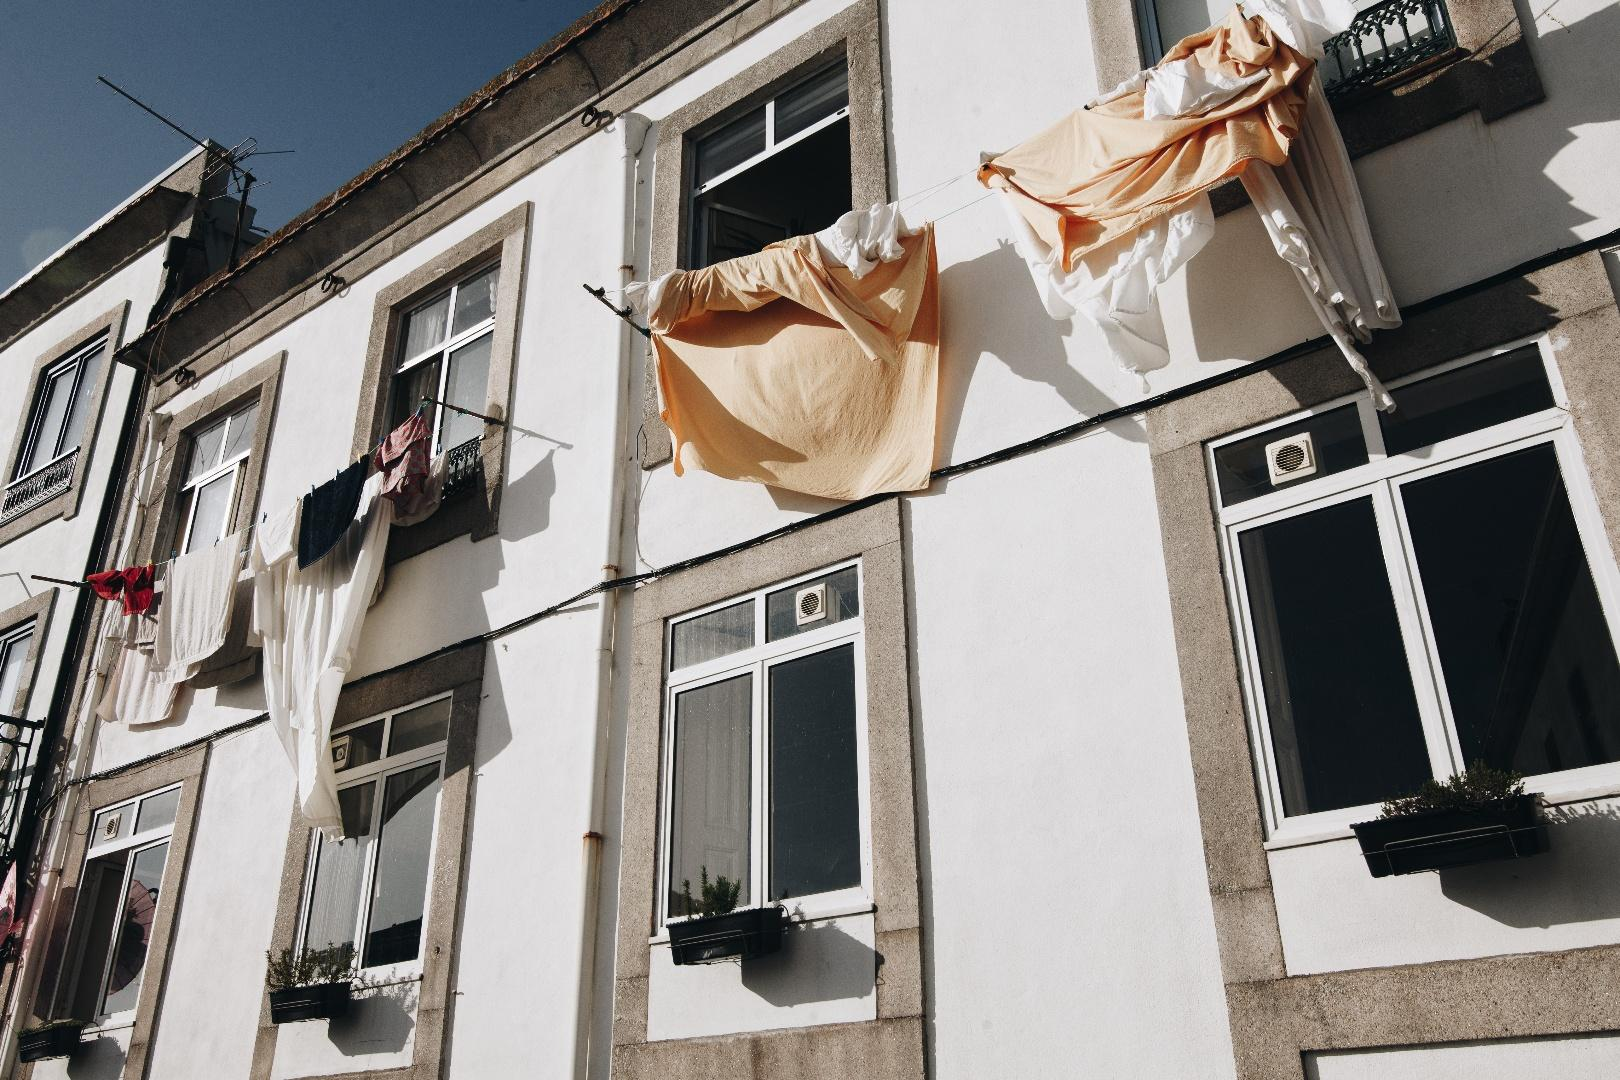penholder: (1323, 1012, 1620, 1080)
